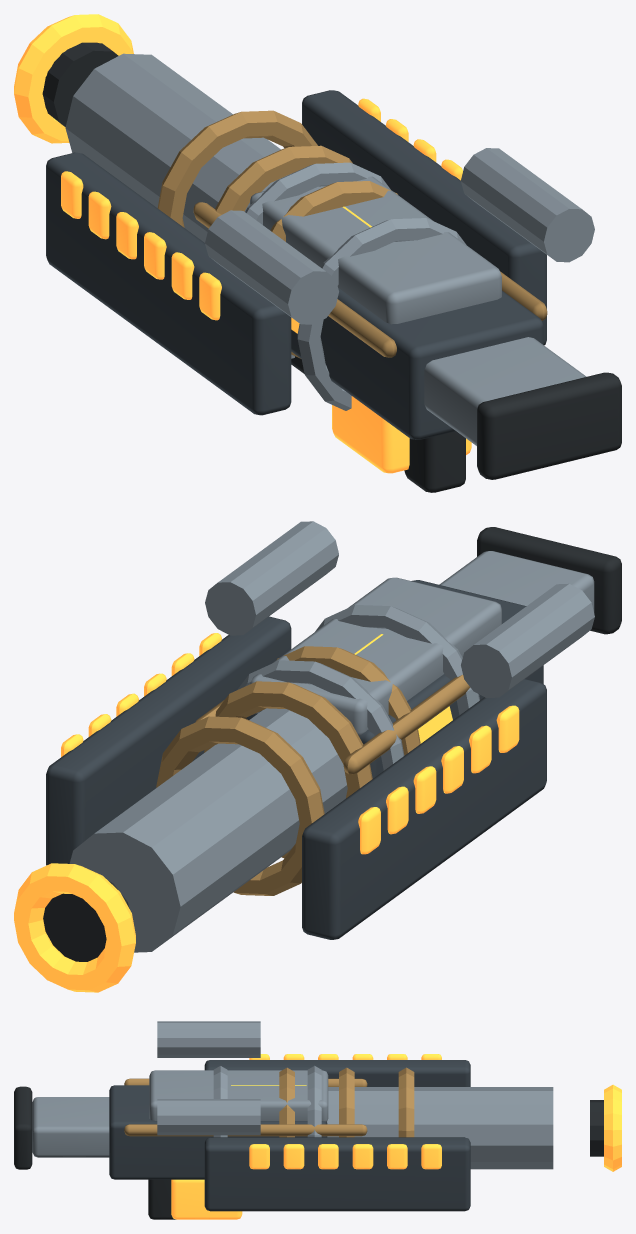
Rendered from inferno-breaker.glb.
3 renders of one model, top to bottom at view 1: azimuth 30°, elevation 25°; view 2: azimuth 150°, elevation 25°; view 3: azimuth 270°, elevation 25°, orthographic. The views are drawn at different scales.
Visible parts, largest first — view 1: INFERNO-BREAKER / heat shield, INFERNO-BREAKER / siege barrel, INFERNO-BREAKER / upper armor, INFERNO-BREAKER / receiver, INFERNO-BREAKER / heat shield.001, INFERNO-BREAKER / butt pad, INFERNO-BREAKER / shoulder stock, INFERNO-BREAKER / exhaust pipe, INFERNO-BREAKER / exhaust pipe.001, INFERNO-BREAKER / burning muzzle, INFERNO-BREAKER / overpressure clamp.002, INFERNO-BREAKER / reactor brace (+14 smaller); view 2: INFERNO-BREAKER / siege barrel, INFERNO-BREAKER / heat shield, INFERNO-BREAKER / heat shield.001, INFERNO-BREAKER / upper armor, INFERNO-BREAKER / burning muzzle, INFERNO-BREAKER / exhaust pipe.001, INFERNO-BREAKER / exhaust pipe, INFERNO-BREAKER / overpressure clamp.002, INFERNO-BREAKER / butt pad, INFERNO-BREAKER / overpressure clamp.001, INFERNO-BREAKER / shoulder stock, INFERNO-BREAKER / reactor brace.001 (+12 smaller); view 3: INFERNO-BREAKER / heat shield.001, INFERNO-BREAKER / siege barrel, INFERNO-BREAKER / receiver, INFERNO-BREAKER / upper armor, INFERNO-BREAKER / shoulder stock, INFERNO-BREAKER / heat shield, INFERNO-BREAKER / exhaust pipe, INFERNO-BREAKER / exhaust pipe.001, INFERNO-BREAKER / side rail.001, INFERNO-BREAKER / power magazine, INFERNO-BREAKER / butt pad, INFERNO-BREAKER / burning muzzle (+14 smaller).
Part boxes in pixels (bbox=[...]): INFERNO-BREAKER / heat shield: bbox=[46, 152, 291, 415]; INFERNO-BREAKER / siege barrel: bbox=[65, 53, 290, 242]; INFERNO-BREAKER / upper armor: bbox=[250, 176, 501, 324]; INFERNO-BREAKER / receiver: bbox=[291, 288, 543, 439]; INFERNO-BREAKER / heat shield.001: bbox=[302, 90, 546, 345]; INFERNO-BREAKER / butt pad: bbox=[477, 372, 621, 479]; INFERNO-BREAKER / shoulder stock: bbox=[424, 337, 586, 445]; INFERNO-BREAKER / exhaust pipe: bbox=[205, 210, 338, 324]; INFERNO-BREAKER / exhaust pipe.001: bbox=[461, 148, 594, 262]; INFERNO-BREAKER / burning muzzle: bbox=[14, 14, 133, 143]; INFERNO-BREAKER / overpressure clamp.002: bbox=[157, 110, 317, 227]; INFERNO-BREAKER / reactor brace: bbox=[297, 218, 466, 410]; INFERNO-BREAKER / siege barrel: bbox=[69, 708, 347, 952]; INFERNO-BREAKER / heat shield: bbox=[302, 679, 546, 939]; INFERNO-BREAKER / heat shield.001: bbox=[46, 616, 291, 865]; INFERNO-BREAKER / upper armor: bbox=[250, 577, 501, 736]; INFERNO-BREAKER / burning muzzle: bbox=[14, 863, 135, 992]; INFERNO-BREAKER / exhaust pipe.001: bbox=[205, 521, 338, 635]; INFERNO-BREAKER / exhaust pipe: bbox=[461, 583, 594, 697]; INFERNO-BREAKER / overpressure clamp.002: bbox=[156, 716, 324, 895]; INFERNO-BREAKER / butt pad: bbox=[477, 527, 621, 634]; INFERNO-BREAKER / overpressure clamp.001: bbox=[204, 681, 372, 858]; INFERNO-BREAKER / shoulder stock: bbox=[439, 551, 594, 612]; INFERNO-BREAKER / reactor brace.001: bbox=[237, 660, 404, 770]; INFERNO-BREAKER / heat shield.001: bbox=[204, 1137, 470, 1211]; INFERNO-BREAKER / siege barrel: bbox=[327, 1087, 553, 1169]; INFERNO-BREAKER / receiver: bbox=[109, 1085, 327, 1179]; INFERNO-BREAKER / upper armor: bbox=[149, 1070, 328, 1122]; INFERNO-BREAKER / shoulder stock: bbox=[32, 1097, 109, 1157]; INFERNO-BREAKER / heat shield: bbox=[204, 1060, 470, 1086]; INFERNO-BREAKER / exhaust pipe: bbox=[157, 1021, 260, 1057]; INFERNO-BREAKER / exhaust pipe.001: bbox=[157, 1099, 260, 1135]; INFERNO-BREAKER / side rail.001: bbox=[124, 1124, 367, 1136]; INFERNO-BREAKER / power magazine: bbox=[171, 1179, 242, 1219]; INFERNO-BREAKER / butt pad: bbox=[14, 1086, 32, 1169]; INFERNO-BREAKER / burning muzzle: bbox=[604, 1084, 621, 1171].
Bounding box in the file's own units: 0.965 × 0.74 × 2.65.
